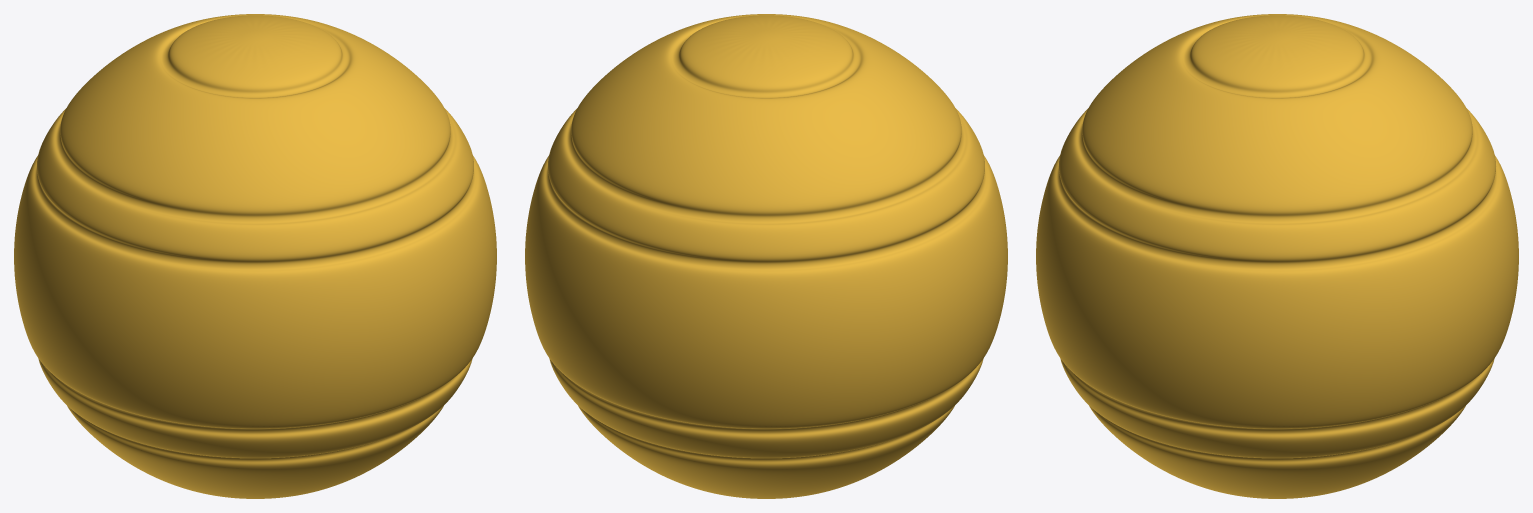
File: stripes_gold.glb
The picture shows the model from 3 angles, left to right: view 1: azimuth 30°, elevation 25°; view 2: azimuth 150°, elevation 25°; view 3: azimuth 270°, elevation 25°; orthographic projection.
Visible parts, largest first — view 1: Sphere.052; view 2: Sphere.052; view 3: Sphere.052.
Boxes of the visible parts, <box> form: Sphere.052: <box>14,14,496,498</box>; Sphere.052: <box>525,14,1007,498</box>; Sphere.052: <box>1036,14,1518,498</box>.
Bounding box in the file's own units: 1.97 × 2 × 1.97.
